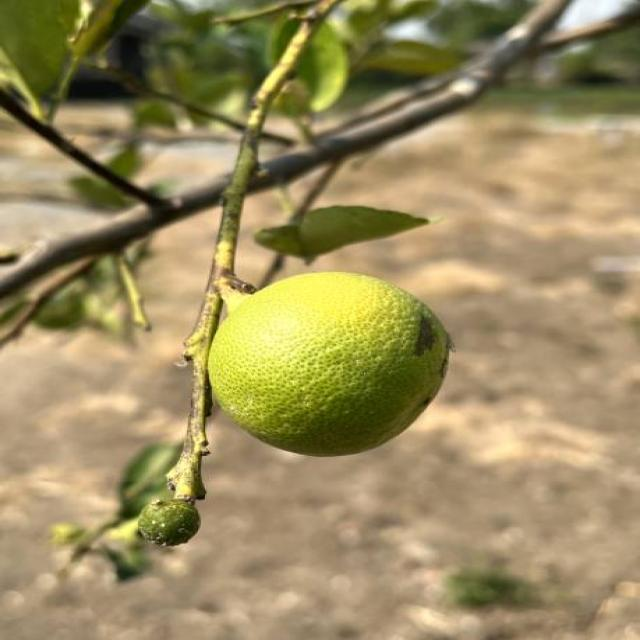Unripe: (209, 269, 444, 458)
